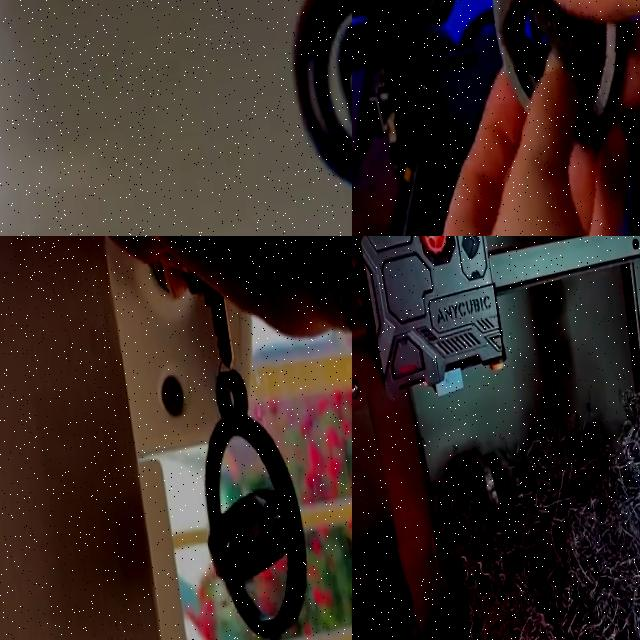spaghetti: (412, 369, 640, 640)
